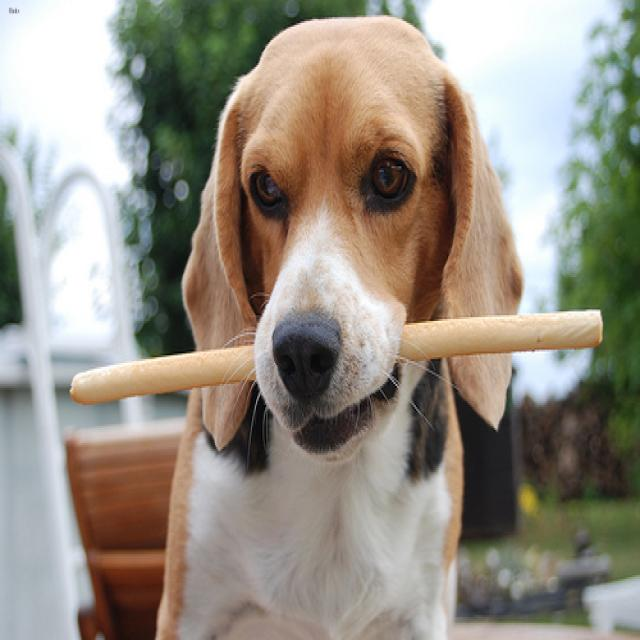dog-beagle: (148, 2, 530, 636)
